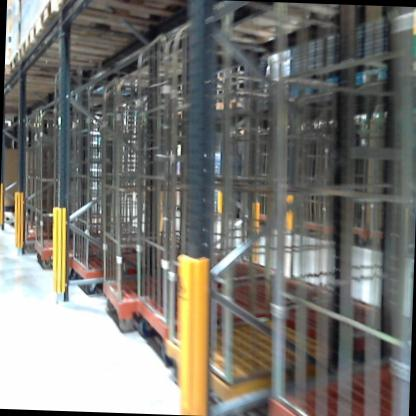pallet: (29, 17, 177, 67), (34, 0, 180, 47), (13, 42, 132, 82), (188, 98, 227, 117), (228, 95, 259, 116)
